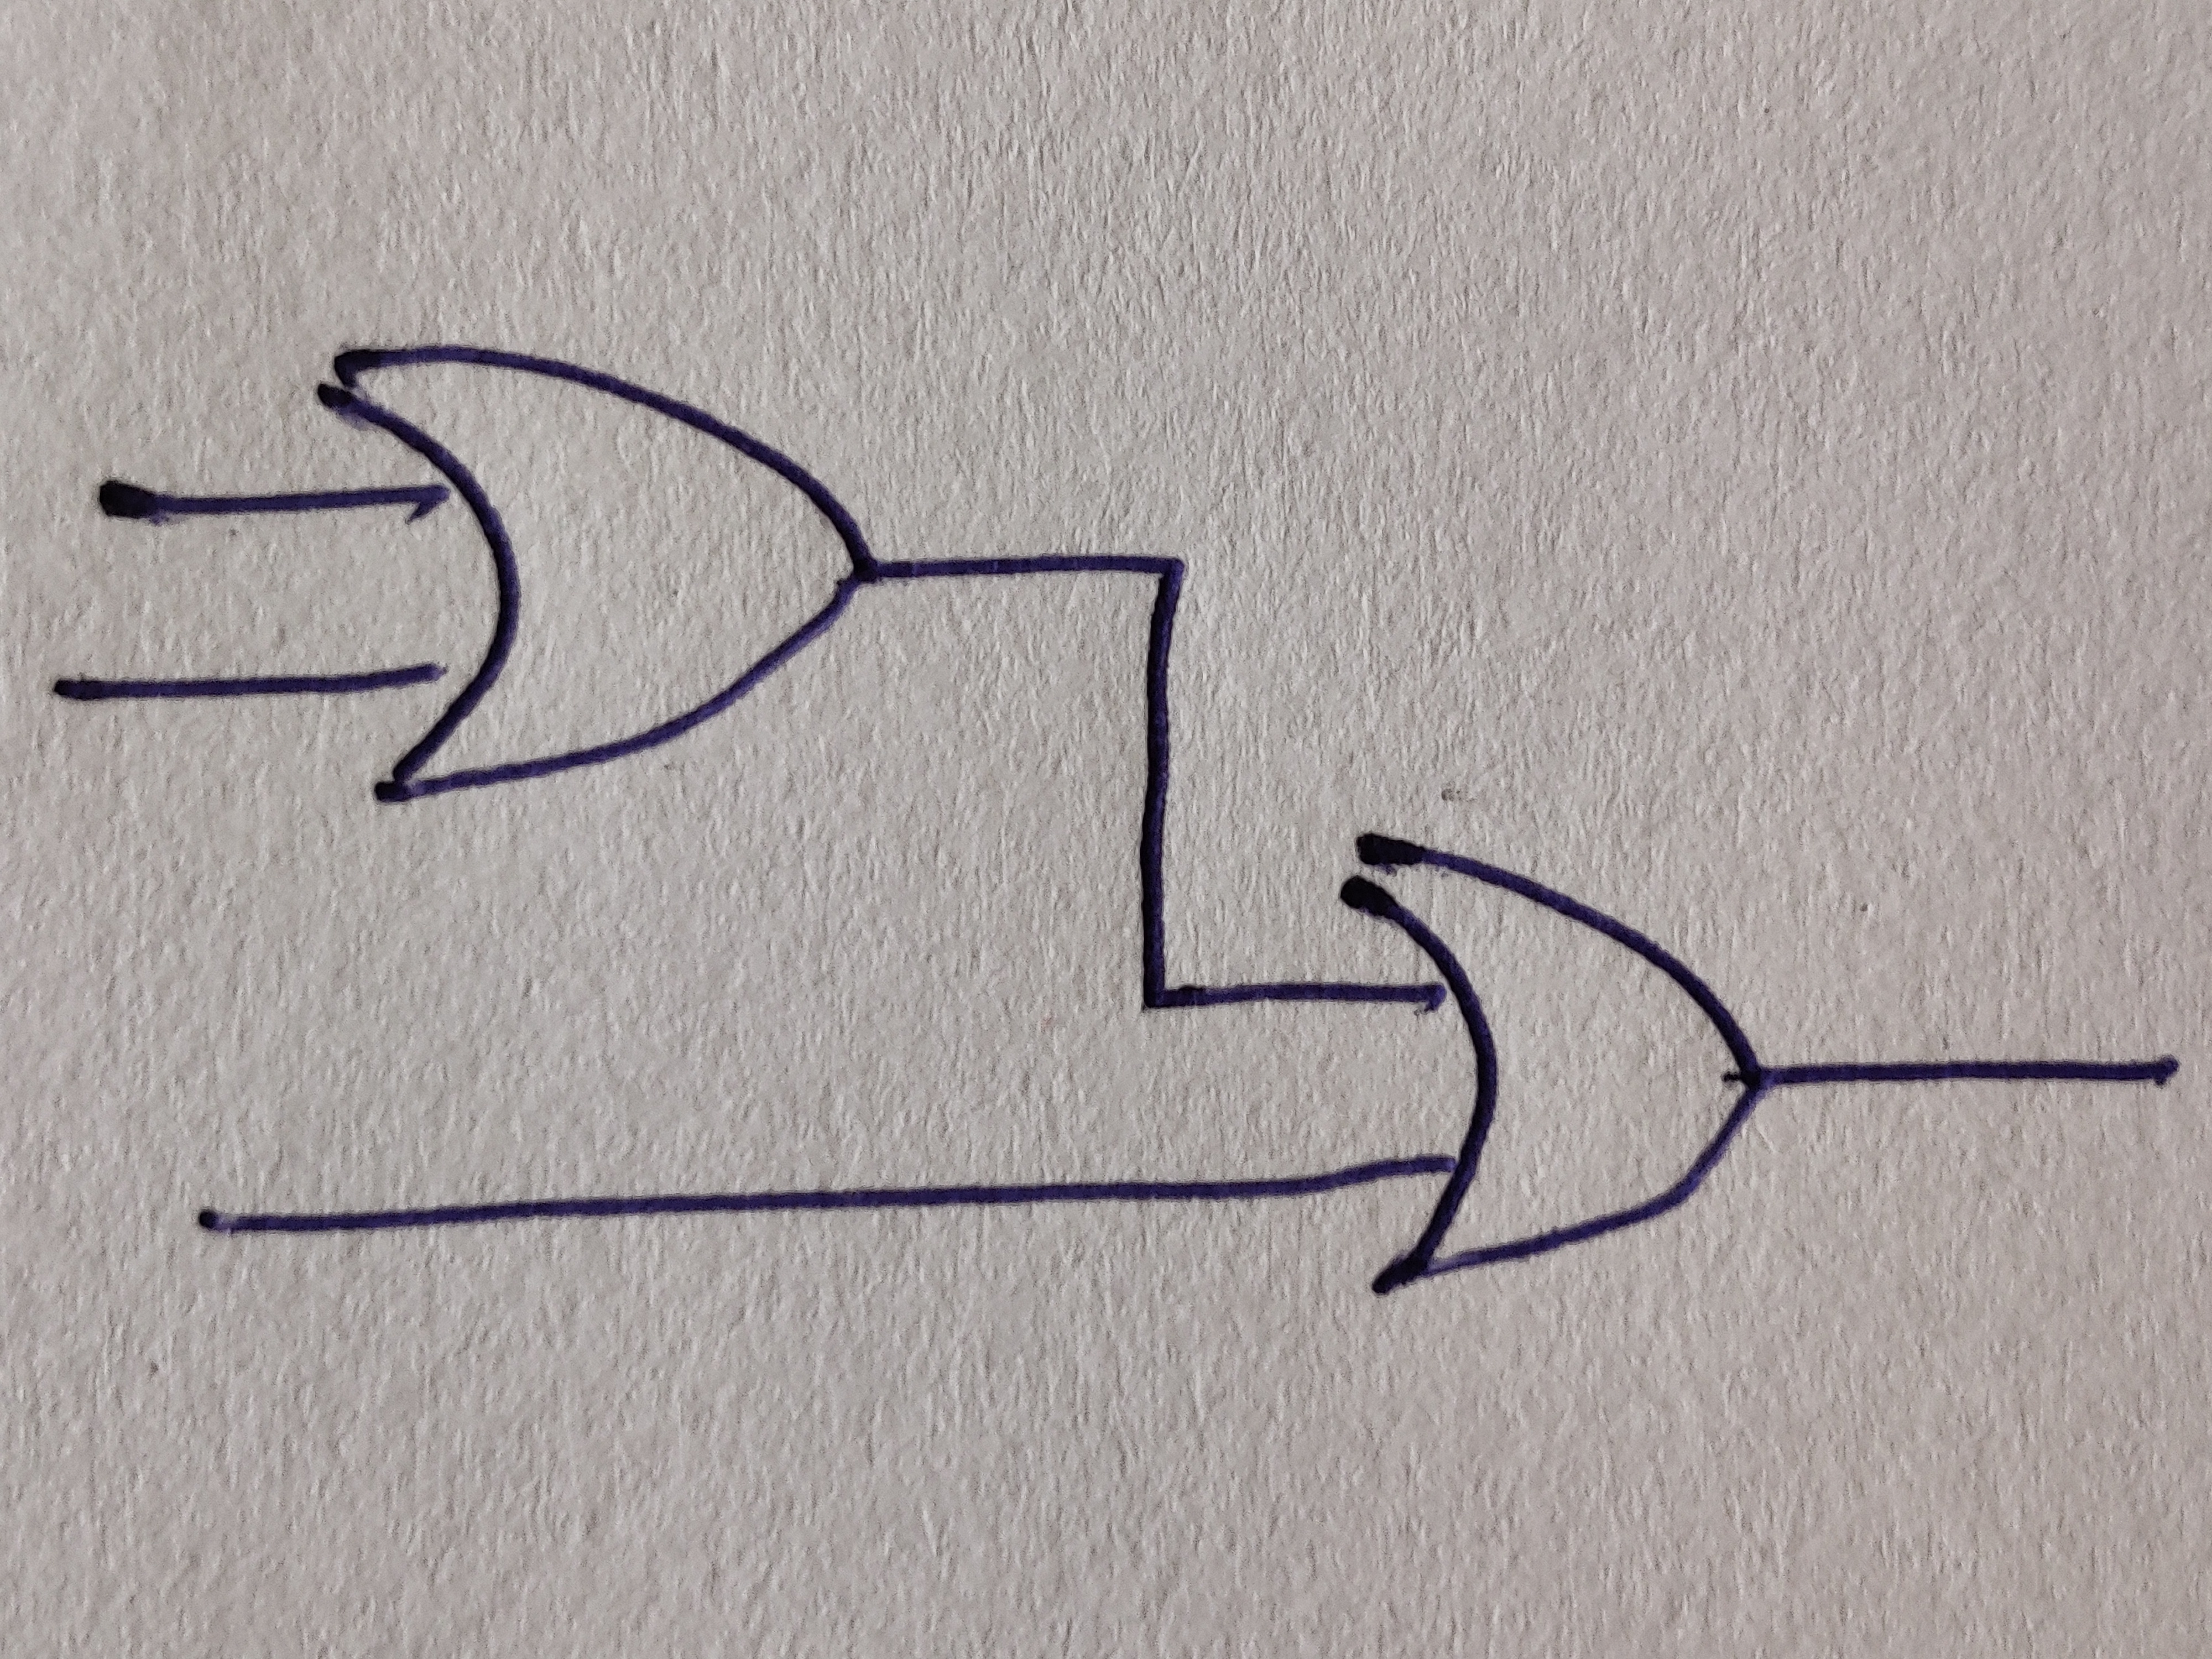or: (320, 347, 874, 805), (1341, 835, 1770, 1297)
